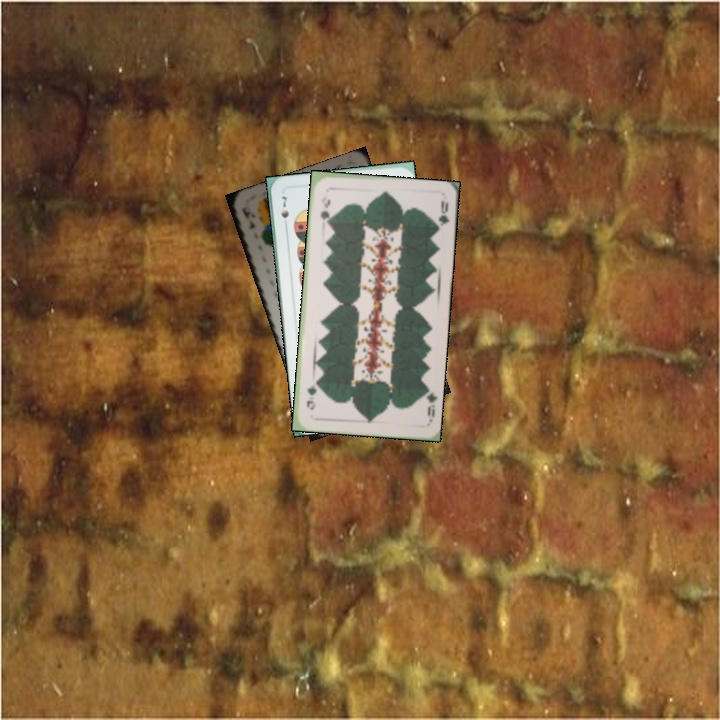EK: (238, 203, 258, 231)
G9: (419, 383, 439, 424), (316, 192, 332, 227)
S7: (277, 192, 291, 231)
